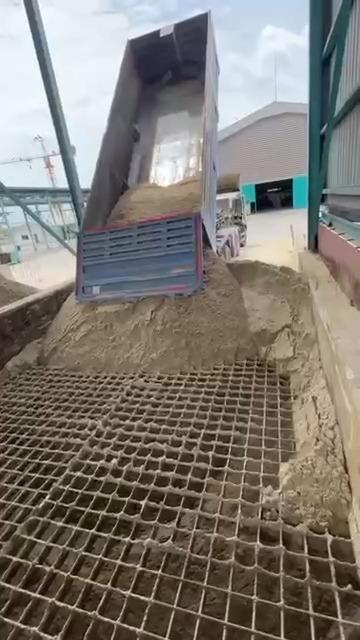sand: (41, 253, 349, 532), (230, 262, 350, 533), (43, 251, 255, 371), (107, 177, 200, 224), (108, 178, 200, 224), (5, 340, 41, 373), (0, 275, 35, 306)
